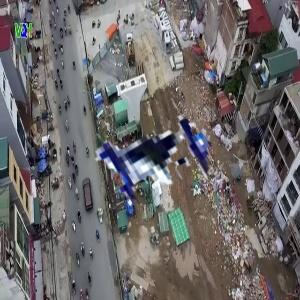drone: (37, 29, 243, 235)
